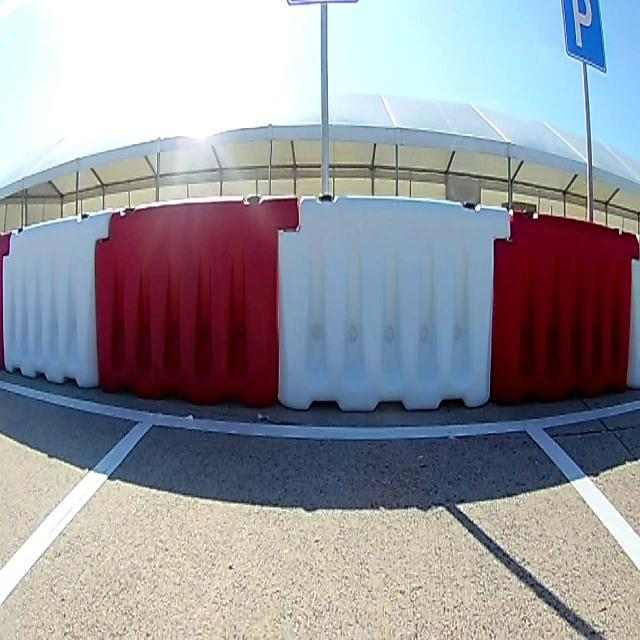park: (562, 1, 606, 74)
